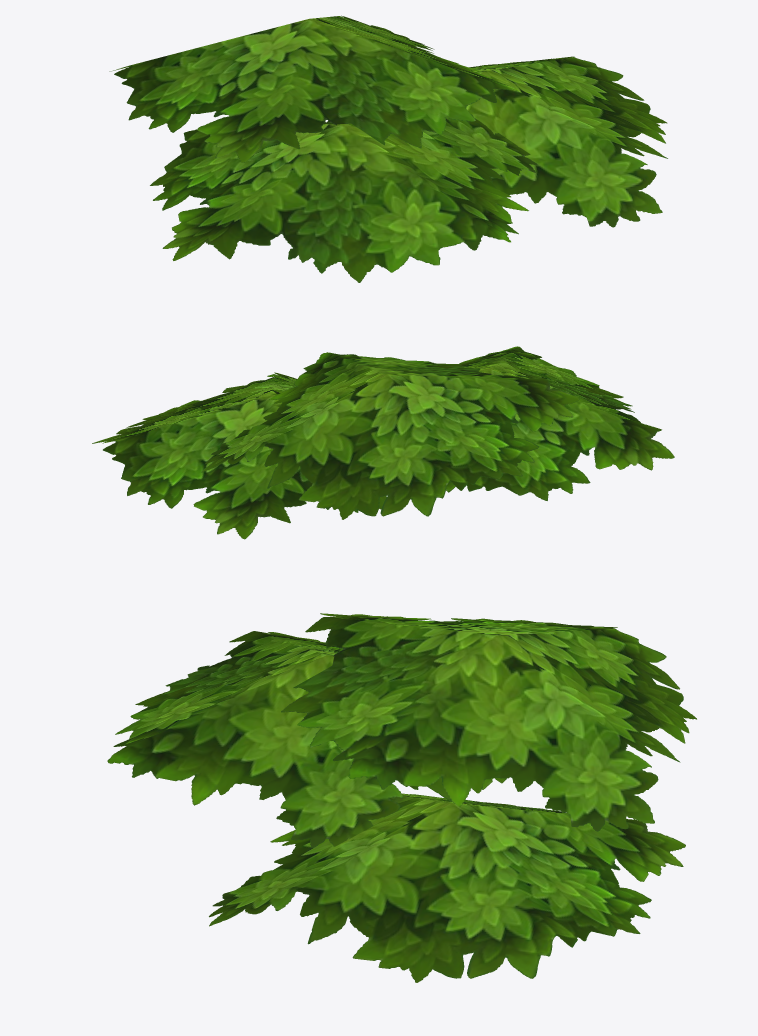
The model's file is sl_guanmu03.FBX.
The picture shows the model from 3 angles, top to bottom: view 1: azimuth 30°, elevation 25°; view 2: azimuth 150°, elevation 25°; view 3: azimuth 270°, elevation 25°; orthographic projection. The views are drawn at different scales.
Parts seen in each view (by area): view 1: sl_guanmu03; view 2: sl_guanmu03; view 3: sl_guanmu03.
Part boxes in pixels (x1=…): sl_guanmu03: x1=109, y1=15, x2=667, y2=282; sl_guanmu03: x1=92, y1=346, x2=674, y2=539; sl_guanmu03: x1=107, y1=613, x2=696, y2=982.
Bounding box in the file's own units: 308 × 71.52 × 262.
Materials: 1 (1 with a texture image).
